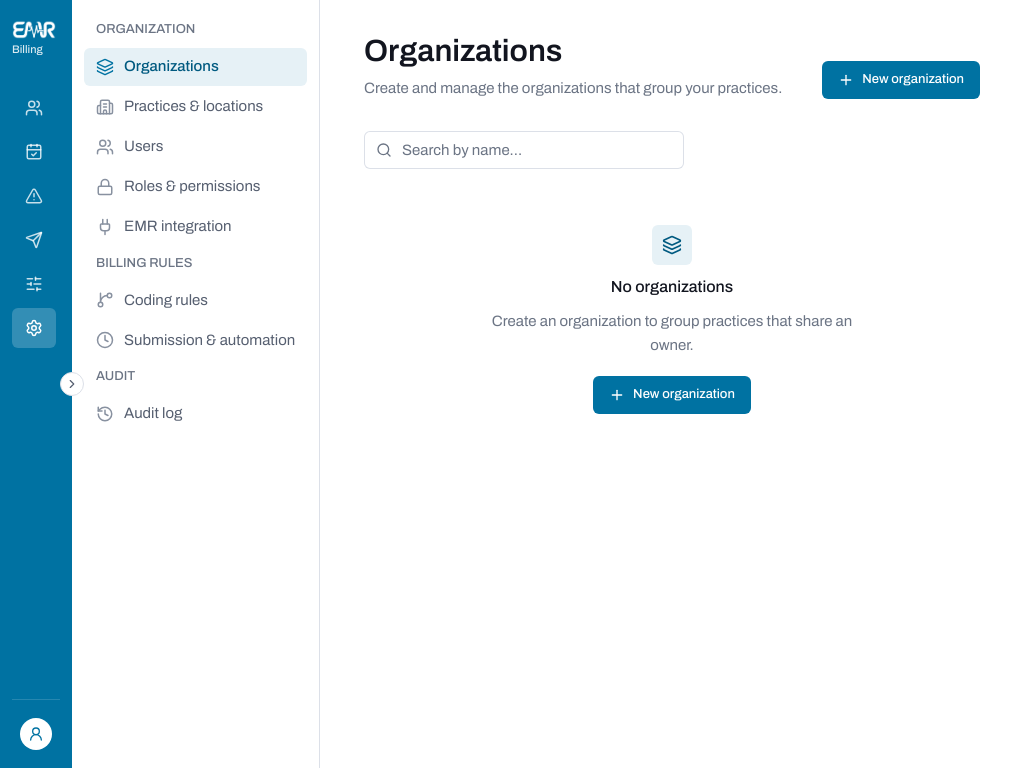
Scenario: Admin → Organizations › explains an empty list and offers to create the first one
Expected: the text "No organizations" is shown, [611,275,733,299]
Click the button "New organization" below "No organizations".
click(672, 395)  # box [593,376,751,414]
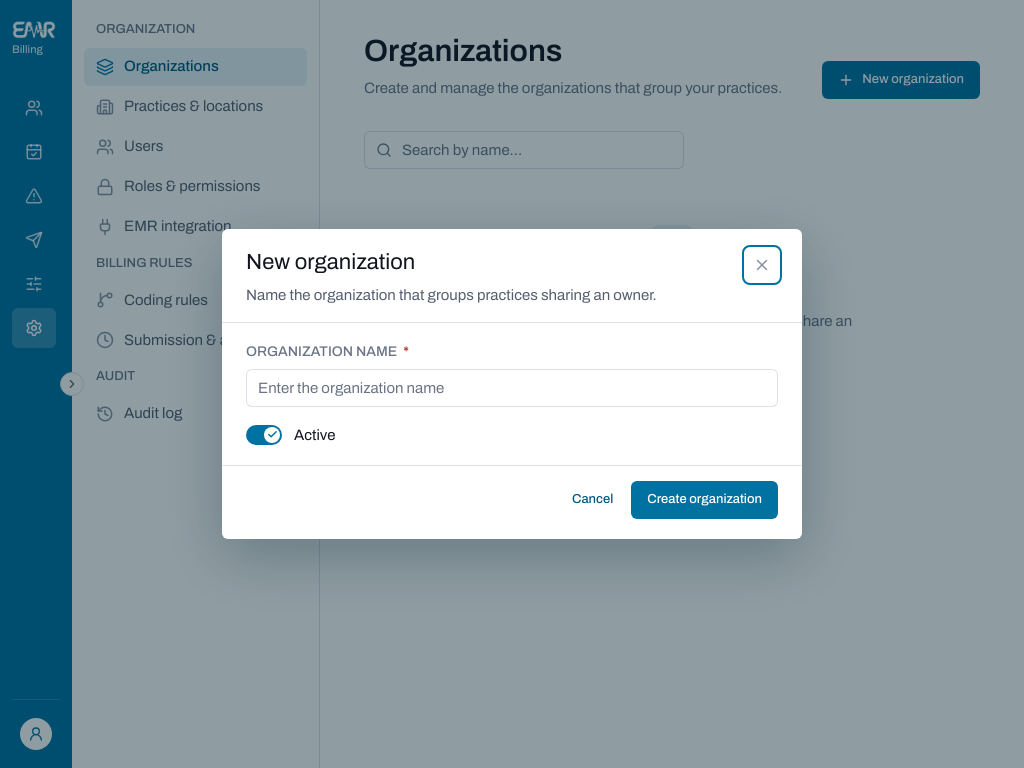
Expected: the heading "New organization" is shown, [246,250,415,274]
